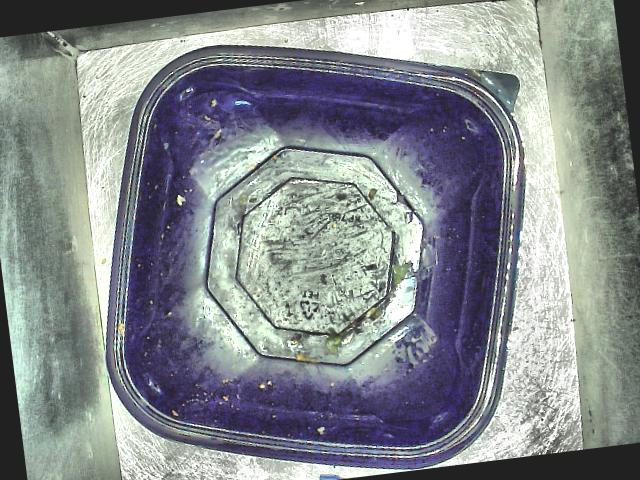Plastic: (77, 11, 569, 480)
